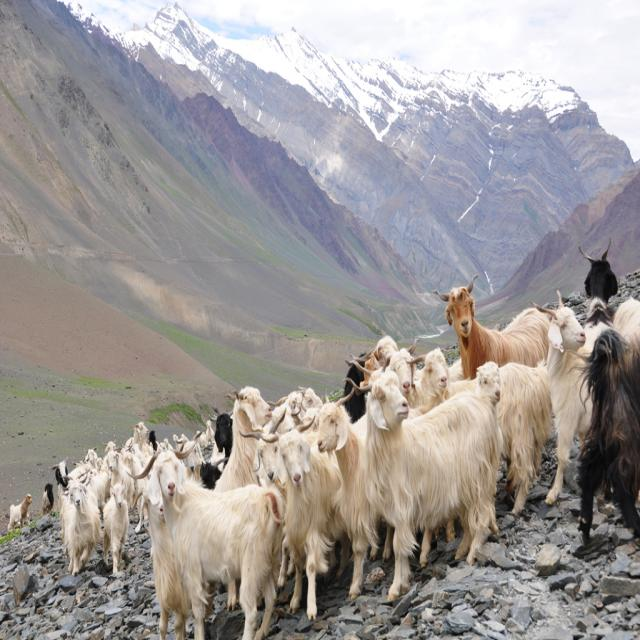Goat: (7, 237, 640, 640)
